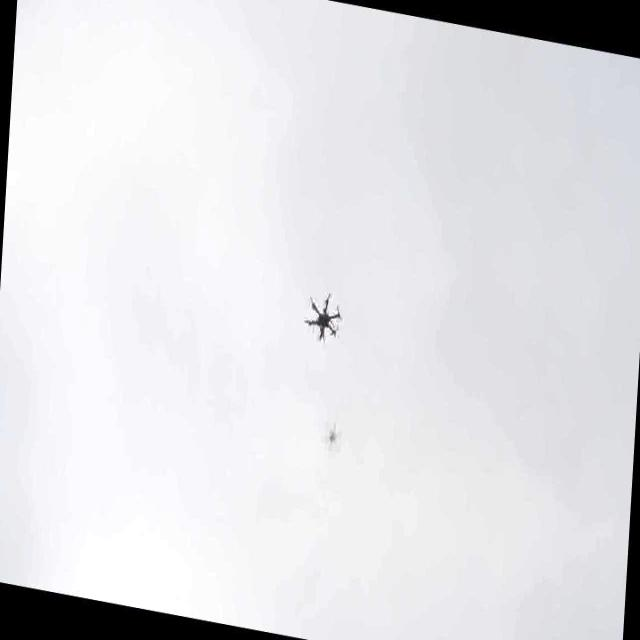drone: (302, 284, 344, 346)
